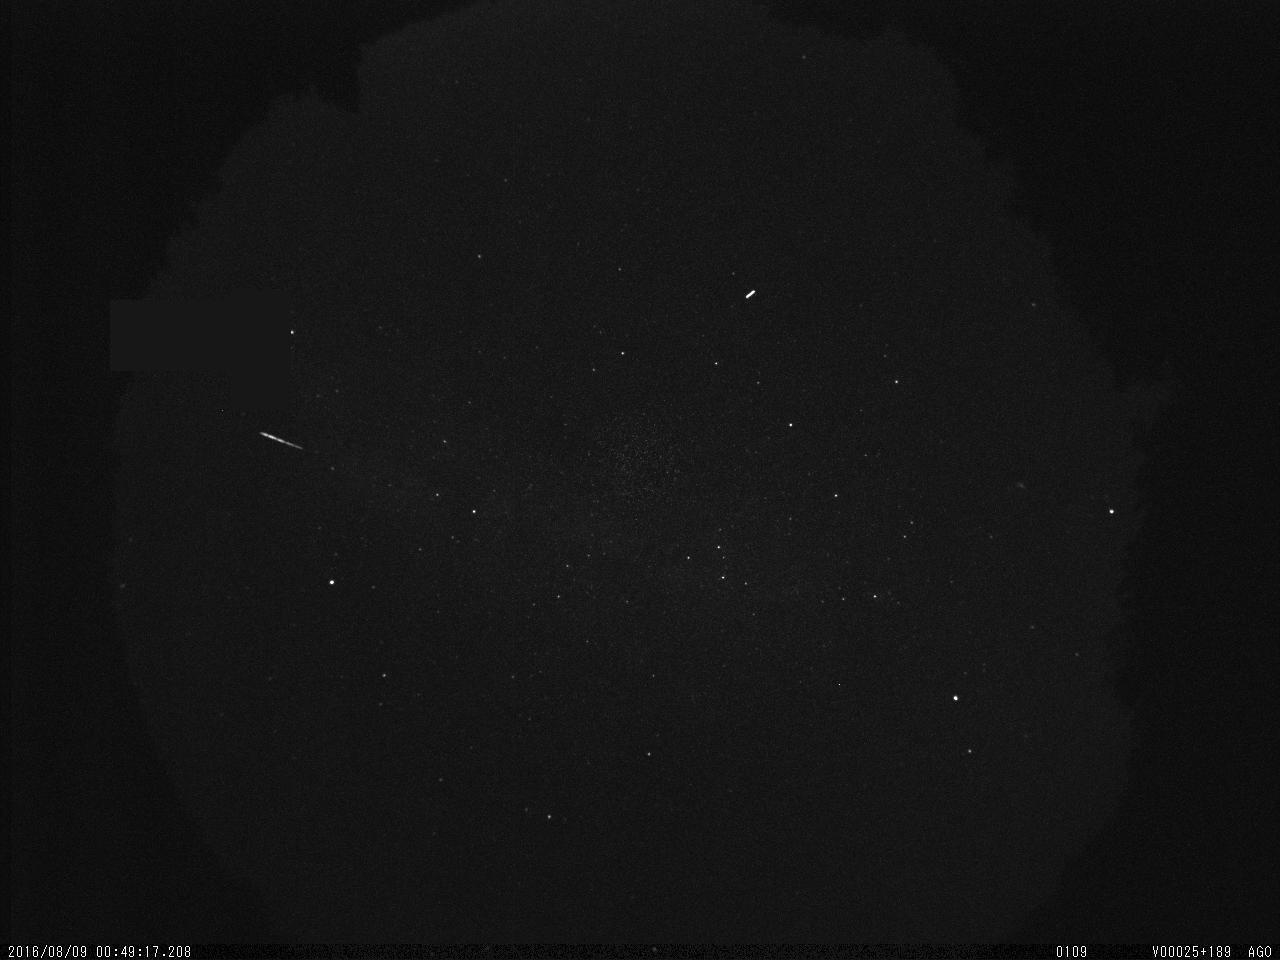Meteor: (255, 424, 313, 458)
